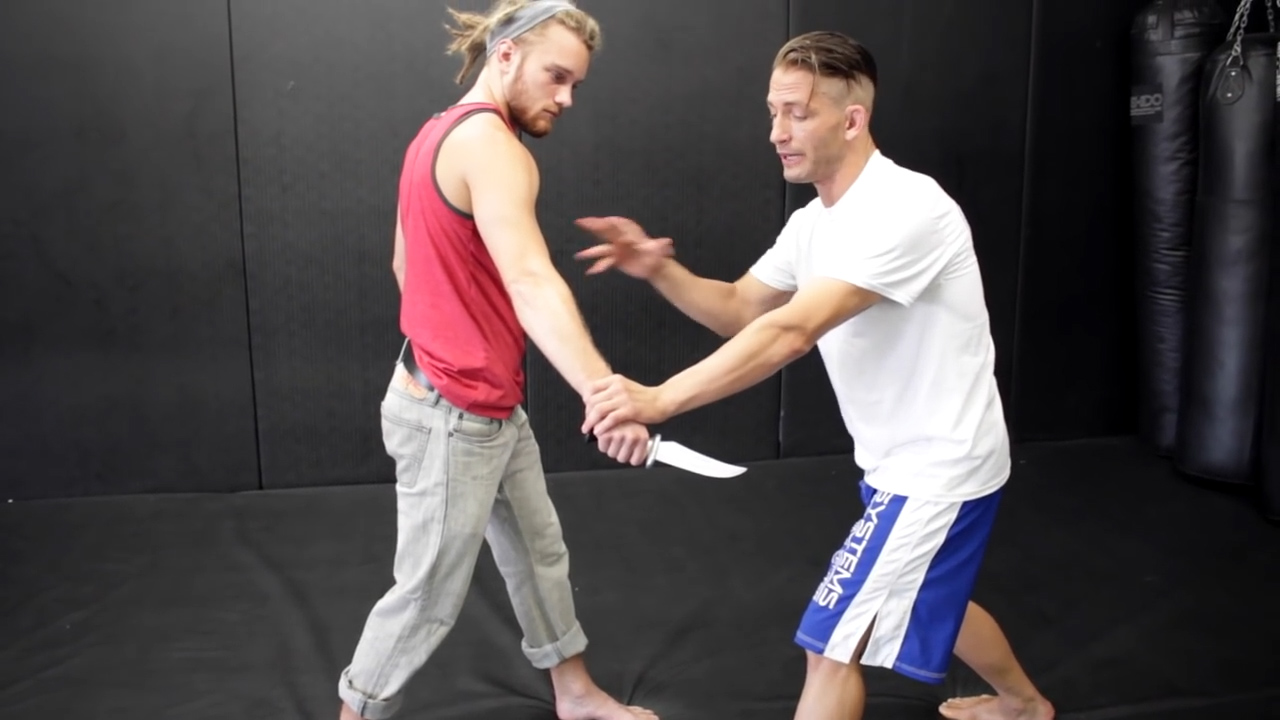knife: (579, 427, 759, 495)
